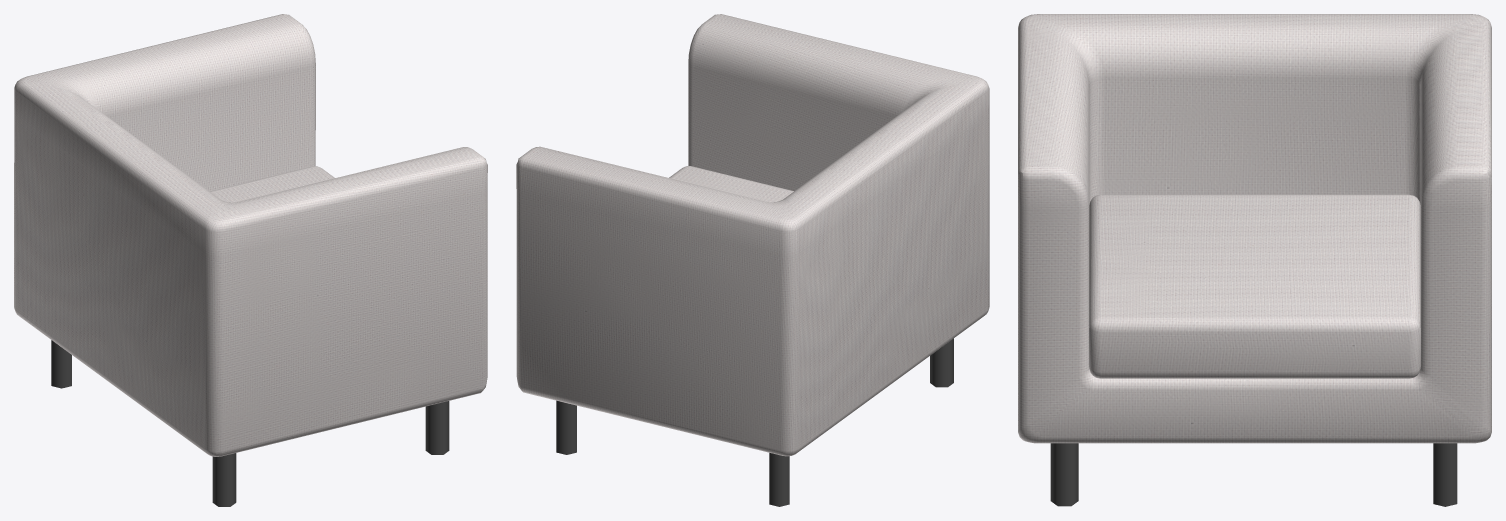
The model's file is FUR0210078.fbx.
3 views of the same model, side by side, from view 1: azimuth 30°, elevation 25°; view 2: azimuth 150°, elevation 25°; view 3: azimuth 270°, elevation 25° (orthographic). The views are drawn at different scales.
Parts seen in each view (by area): view 1: smFUR0210078; view 2: smFUR0210078; view 3: smFUR0210078.
Part boxes in pixels (x1,y1,x2,y2): smFUR0210078: [14, 14, 487, 506]; smFUR0210078: [516, 14, 989, 506]; smFUR0210078: [1018, 14, 1491, 506].
Size of the model in its own units: 95.33 by 97.44 by 120.
Materials: 1 (1 with a texture image).
